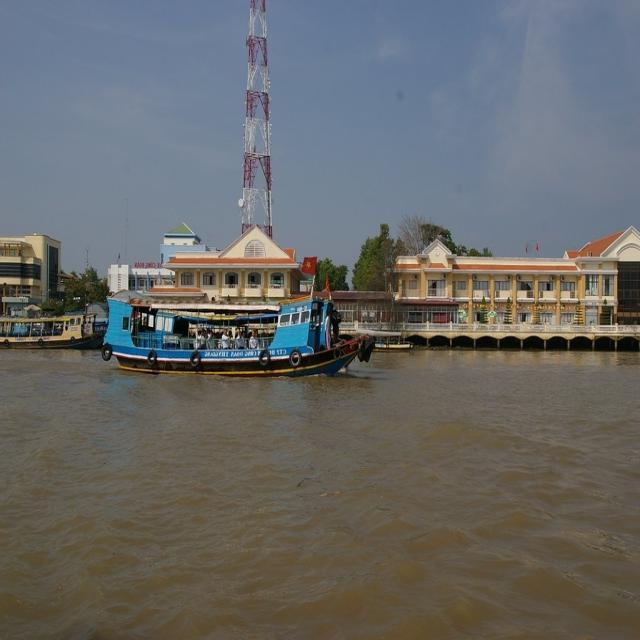boat: (88, 298, 366, 377)
